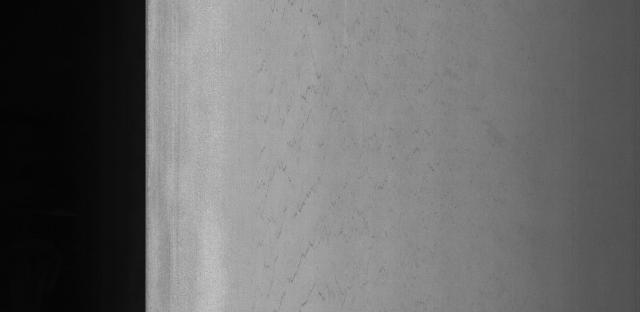silk_spot: (251, 67, 366, 305)
